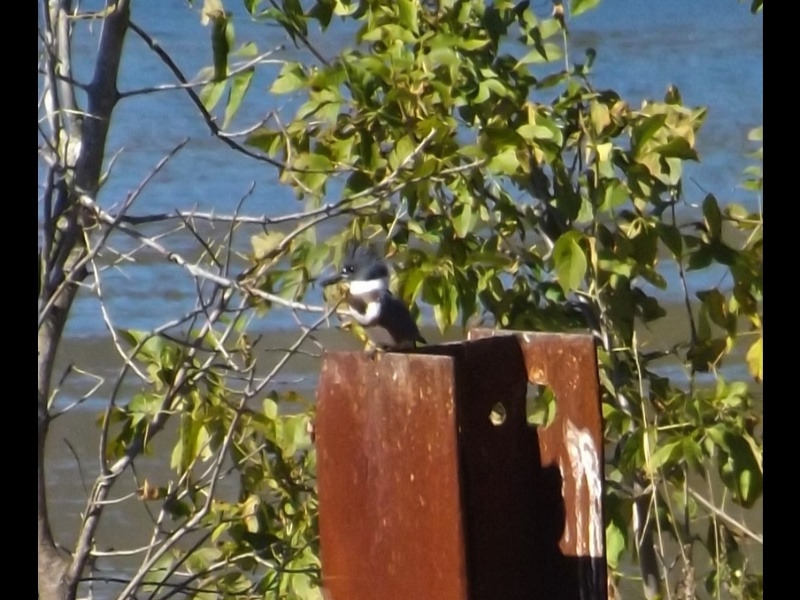kingfisher: (325, 235, 421, 351)
